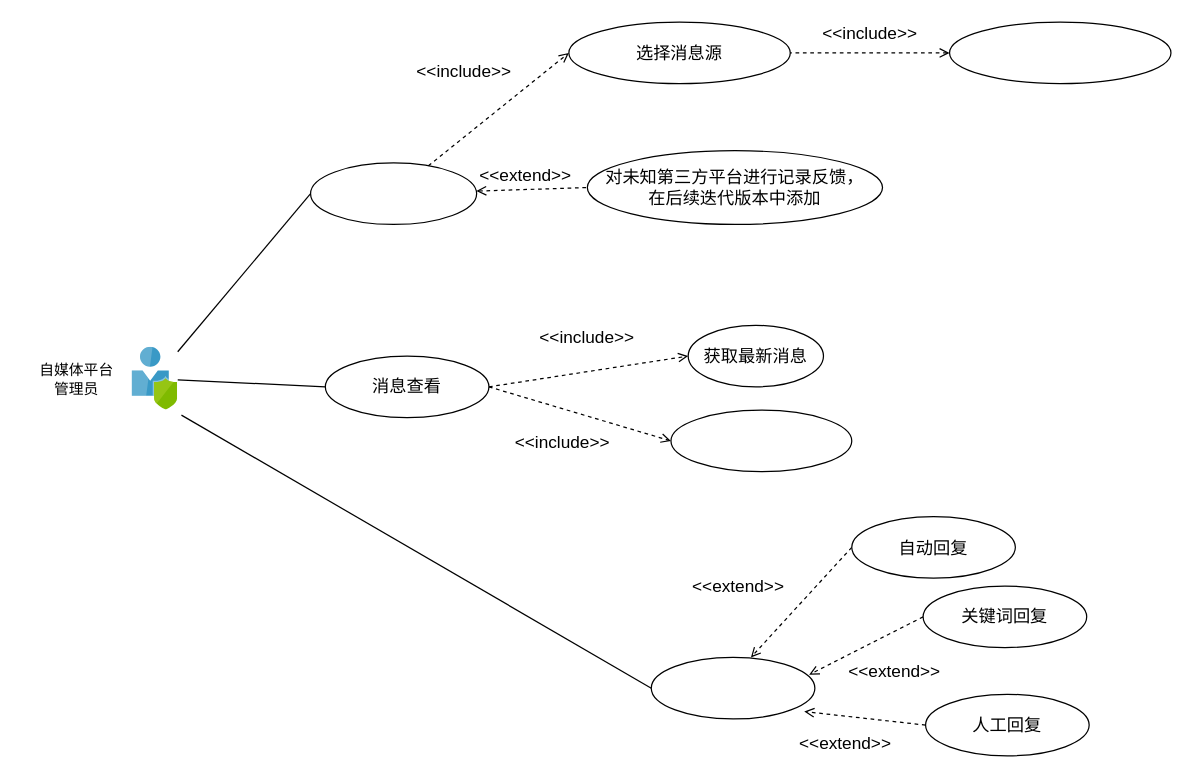
Some shapes in this 1192 by 777 pixel diagram are drawn without their labels. Here are the shapes that lost their labels. From the top down, the centre of each, then its label:
(1059,52): 对已知协议格式的链接 进行解析（RSS）
(393,193): 消息获取
(761,440): 选择消息类别
(732,687): 消息回复设置
